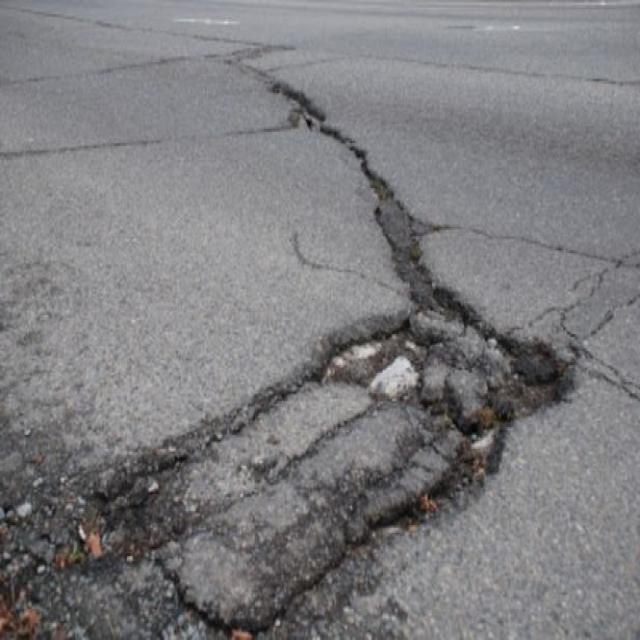pothole: (65, 297, 585, 637)
